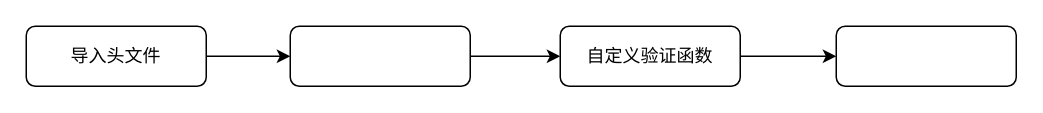
This 1043x113 diagram has some shape labels left out. The box of each missing label's shape, as (x1, y1, x2, y2) in pixels:
构建模型转换: (835, 25, 1016, 86)
超网构建: (289, 25, 470, 86)
